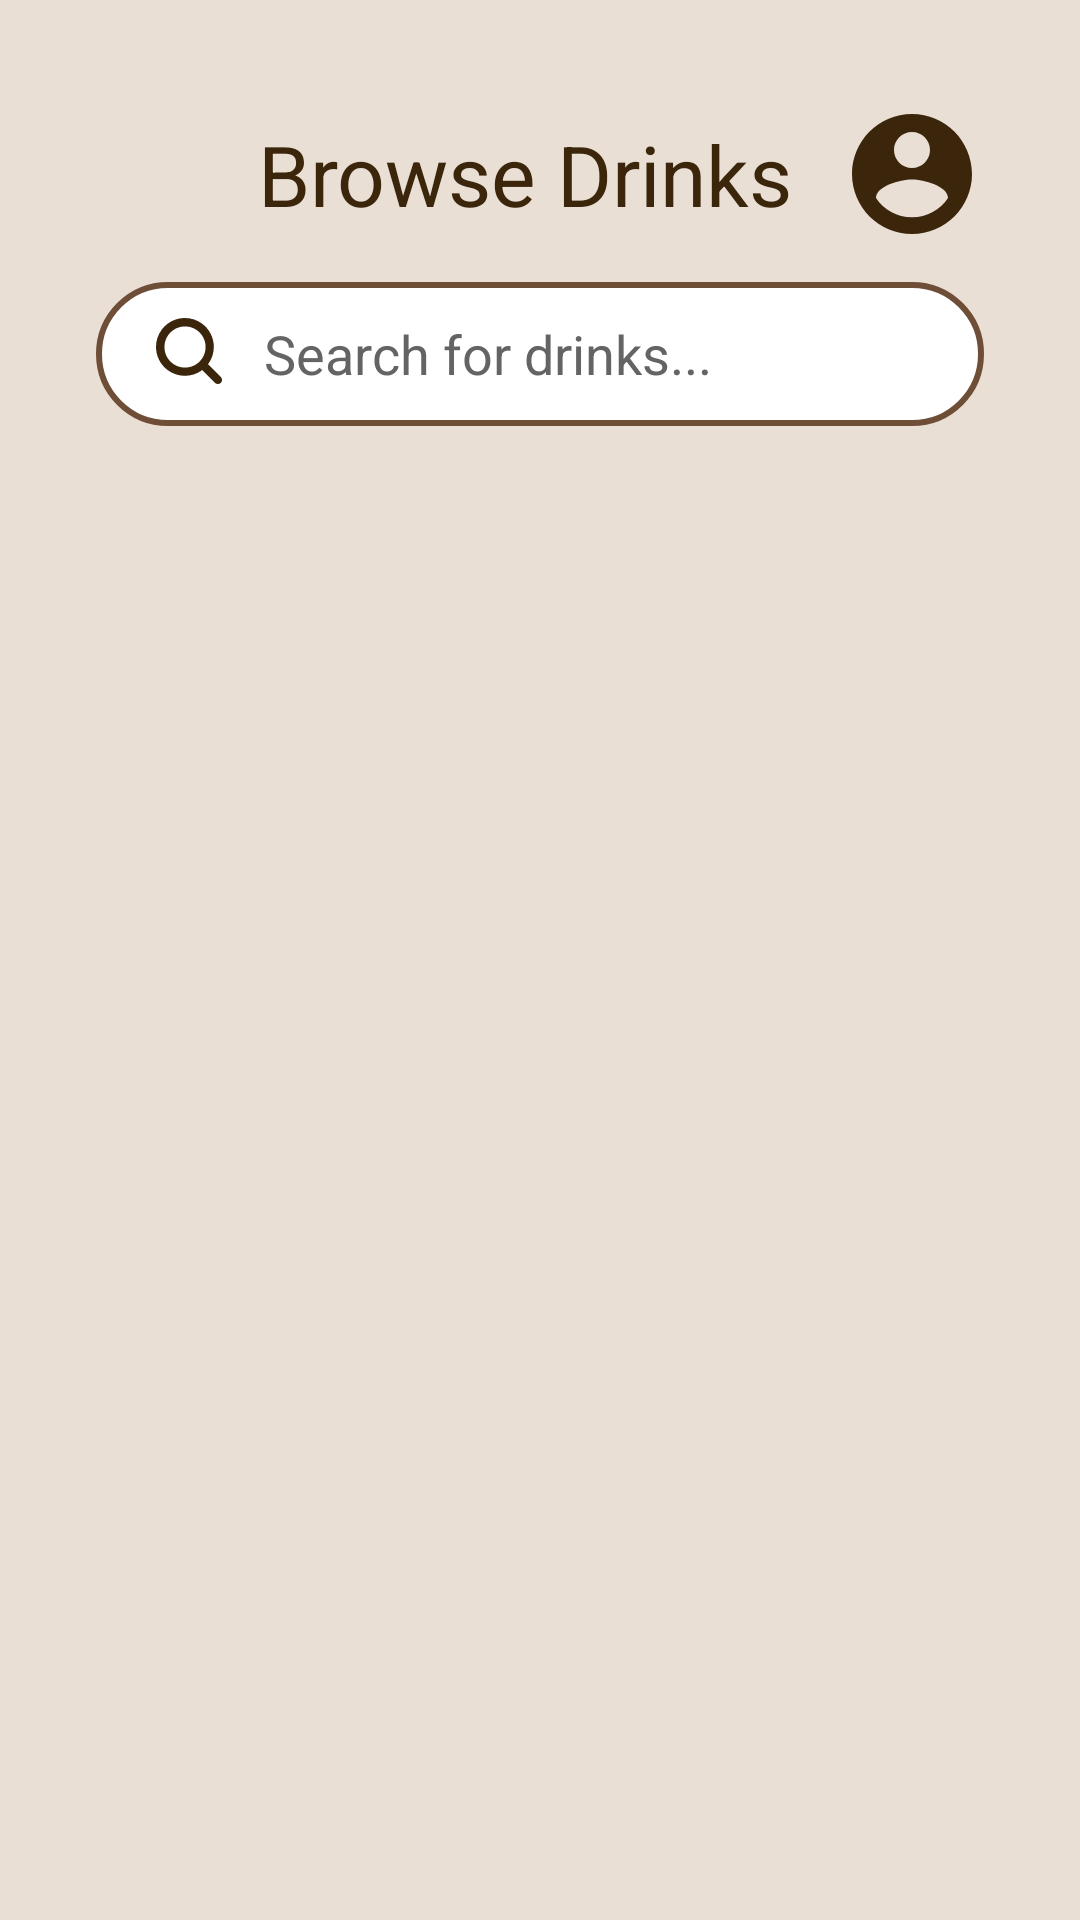

Icons on this 1080x1920 Android screen, each with the point to tap as (x,y):
Profile Button: (912,174)
searchbar: (189,351)
